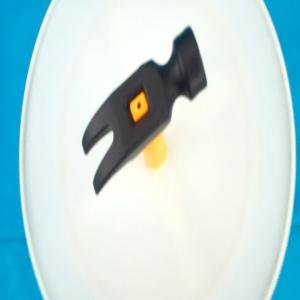martelo: (81, 25, 208, 196)
